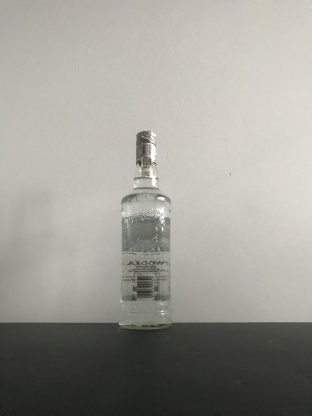nakretka: (134, 128, 157, 165)
